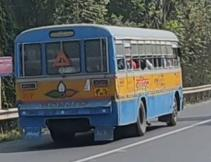Bus: (12, 22, 184, 141)
